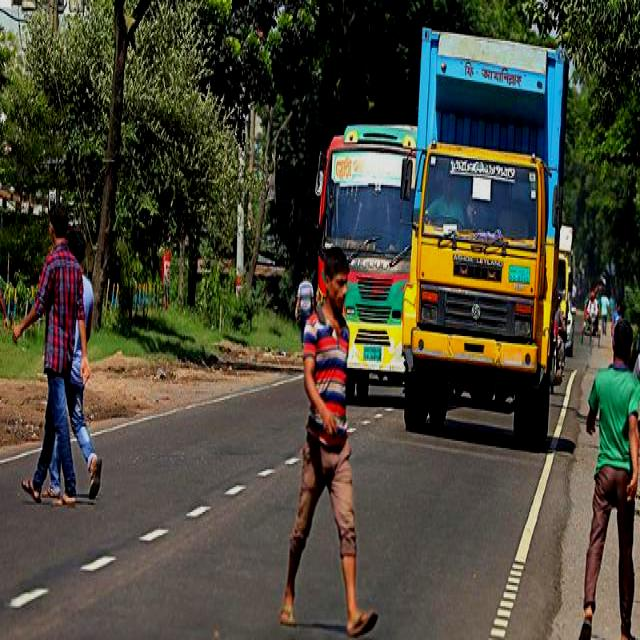bus: (315, 120, 412, 403)
motorcycle: (580, 290, 600, 346), (548, 322, 561, 389)
truck: (402, 23, 568, 445), (553, 220, 573, 340)
